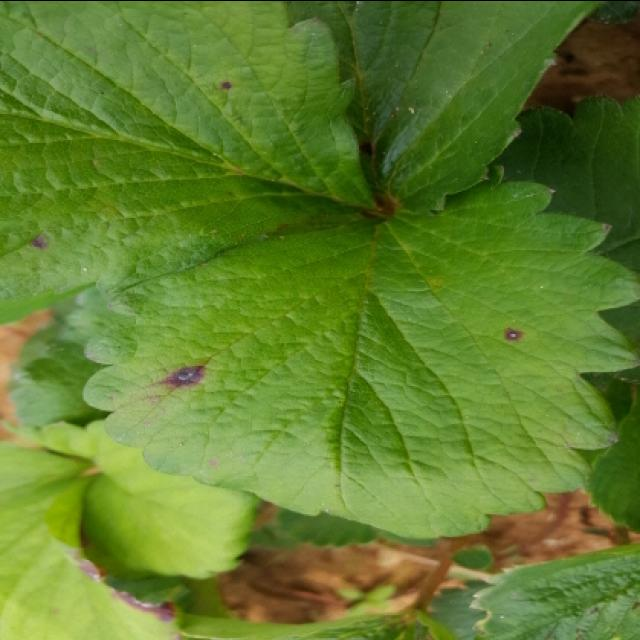Leaf Spot: (82, 163, 638, 540), (0, 2, 384, 301), (287, 2, 609, 217)
